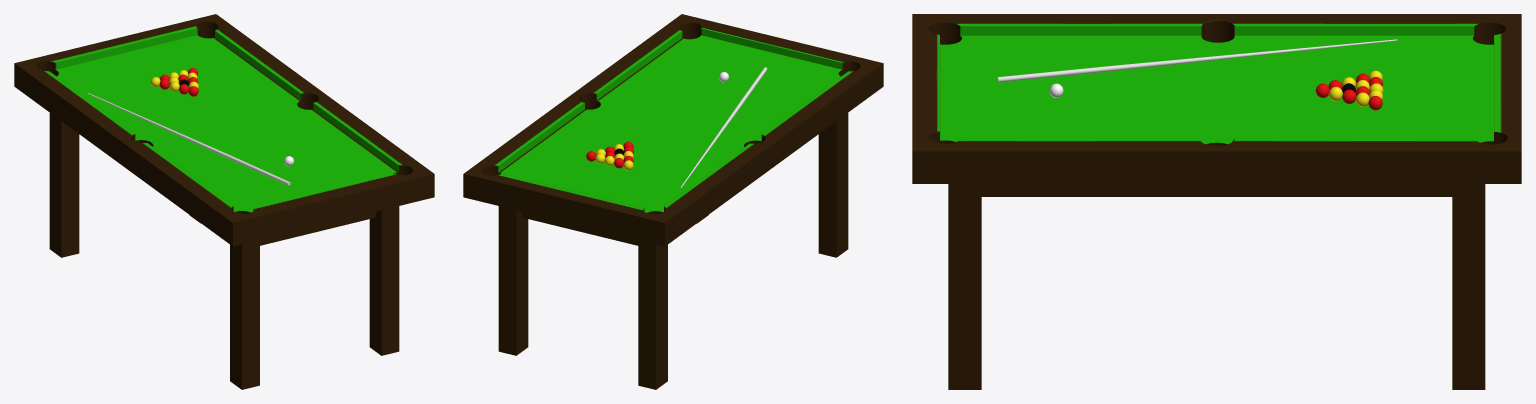
Rendered from pool table.FBX.
3 renders of one model, left to right at view 1: azimuth 30°, elevation 25°; view 2: azimuth 150°, elevation 25°; view 3: azimuth 270°, elevation 25°, orthographic. The views are drawn at different scales.
Parts seen in each view (by area): view 1: pool table, pool cue; view 2: pool table, pool cue; view 3: pool table, pool cue.
Boxes of the visible parts, left/top/right/bottom form: pool table: left=14, top=14, right=434, bottom=389; pool cue: left=87, top=93, right=290, bottom=185; pool table: left=463, top=14, right=883, bottom=389; pool cue: left=680, top=67, right=767, bottom=188; pool table: left=912, top=14, right=1521, bottom=389; pool cue: left=997, top=39, right=1397, bottom=82.
Size of the model in its own units: 51.5 by 44.95 by 96.59.
